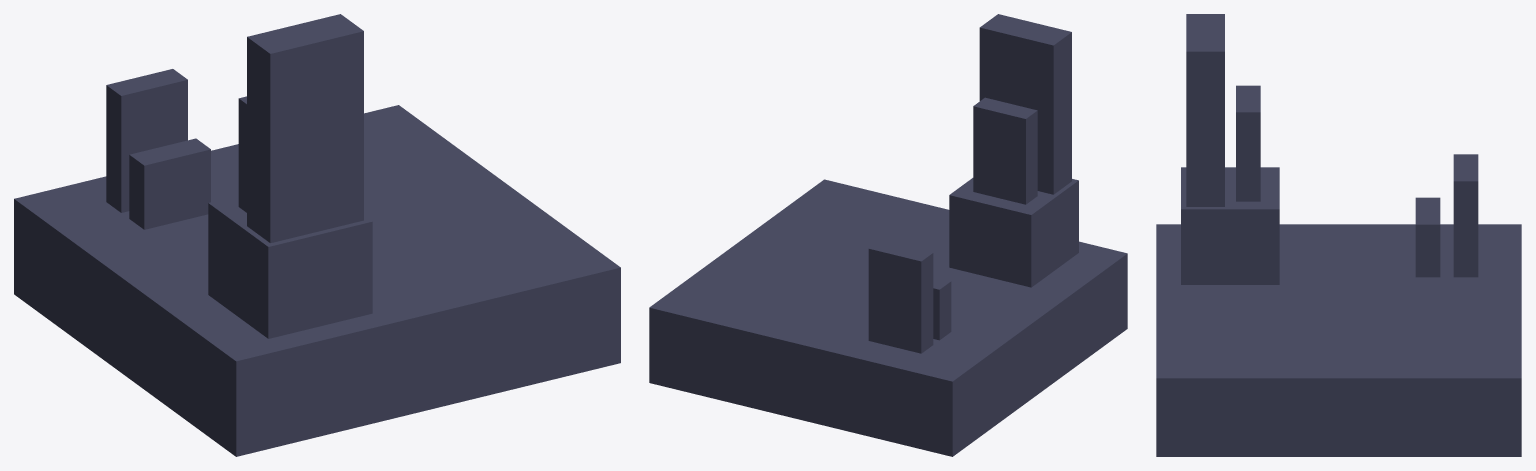
The model's file is Env_Bottom_Roof_02.fbx.
The picture shows the model from 3 angles, left to right: view 1: azimuth 30°, elevation 25°; view 2: azimuth 150°, elevation 25°; view 3: azimuth 270°, elevation 25°; orthographic projection. The views are drawn at different scales.
Visible parts, largest first — view 1: Env_Bottom_Roof_02; view 2: Env_Bottom_Roof_02; view 3: Env_Bottom_Roof_02.
Part boxes in pixels (x1=…): Env_Bottom_Roof_02: x1=14, y1=14, x2=620, y2=456; Env_Bottom_Roof_02: x1=649, y1=14, x2=1127, y2=456; Env_Bottom_Roof_02: x1=1156, y1=14, x2=1521, y2=456.
Size of the model in its own units: 0.8463 by 0.7922 by 0.8463.
